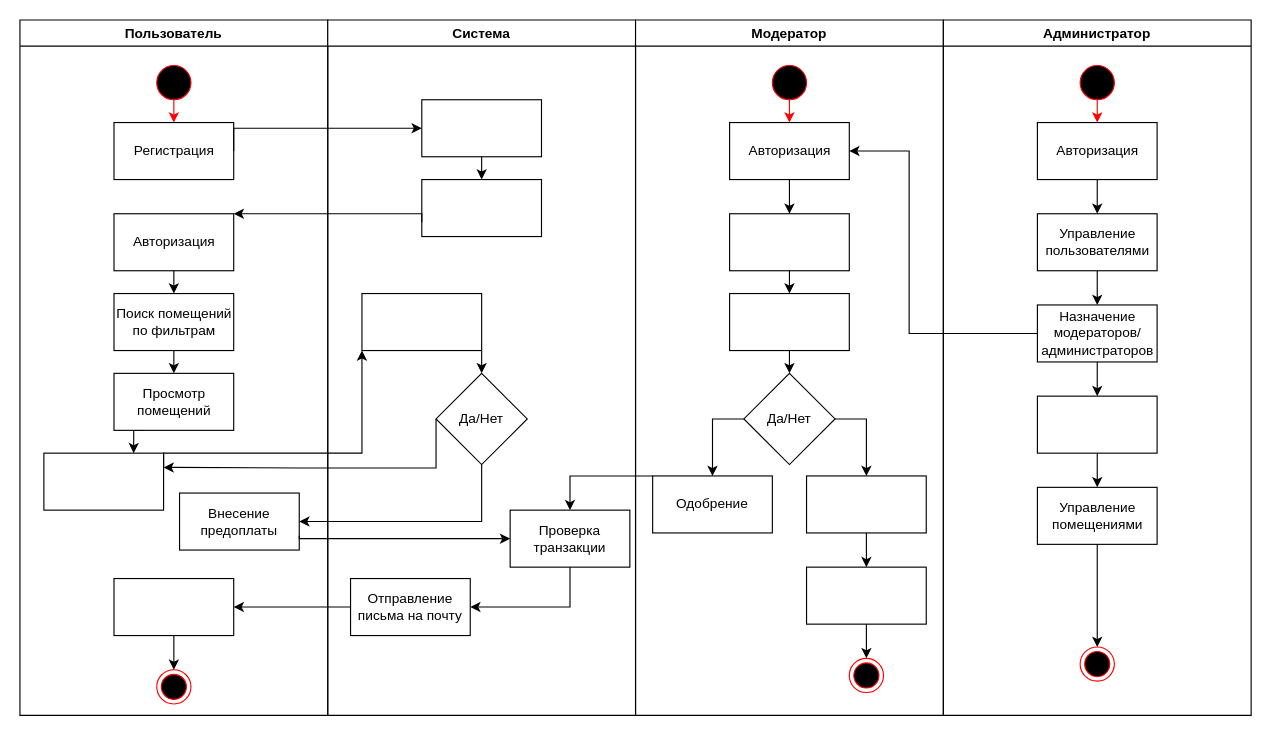
Image size: 1271x735. Some labels were removed from this diagram. The centre of each missing label's shape, as x and y in pixels:
Бронирование помещения: the point at 103,481
Добавление данных: the point at 481,207
Модерирование отзывов: the point at 788,242
Отклонение: the point at 865,504
Получение данных: the point at 481,128
Проверка бронирований: the point at 788,321
Проверка на занятость: the point at 421,321
Просмотр бронирования: the point at 173,606
Просмотров отчетов: the point at 865,595
Управление категориями: the point at 1096,424
